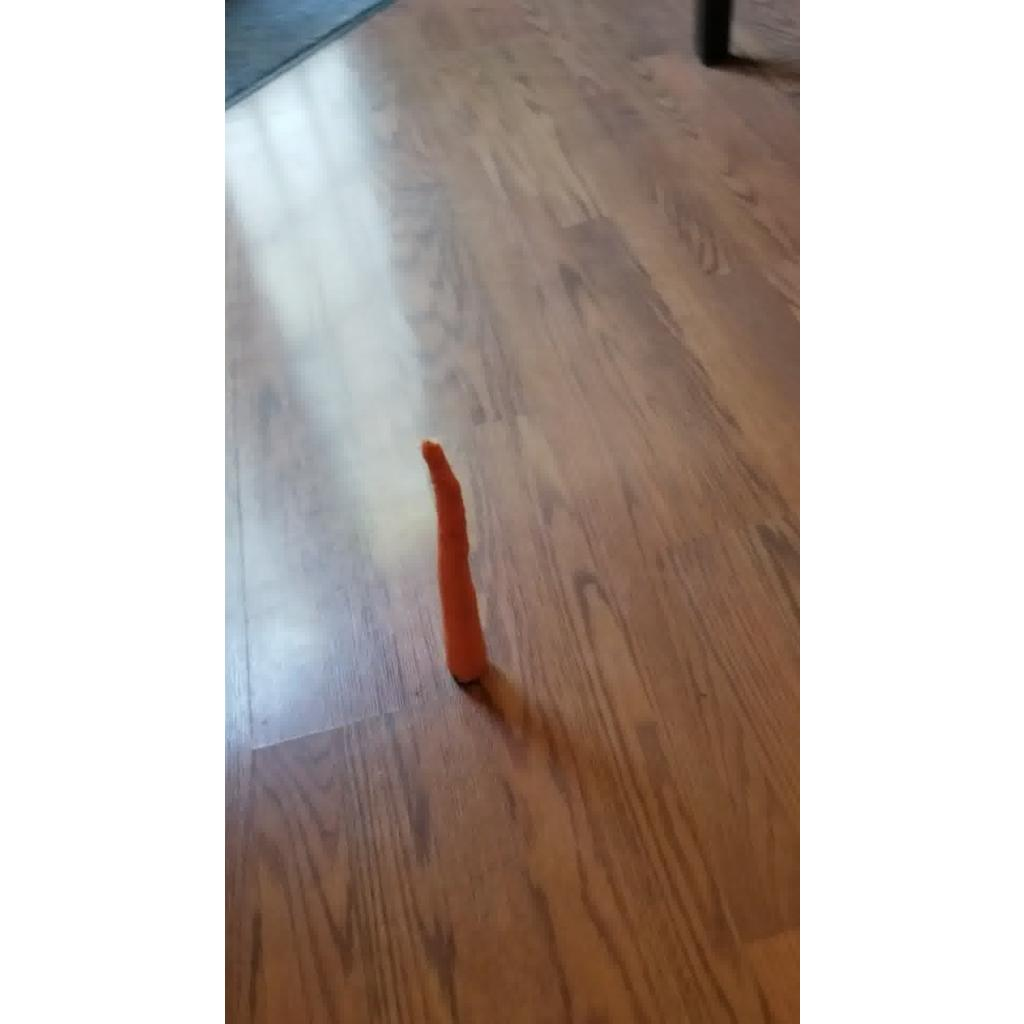carrot: (420, 440, 488, 682)
